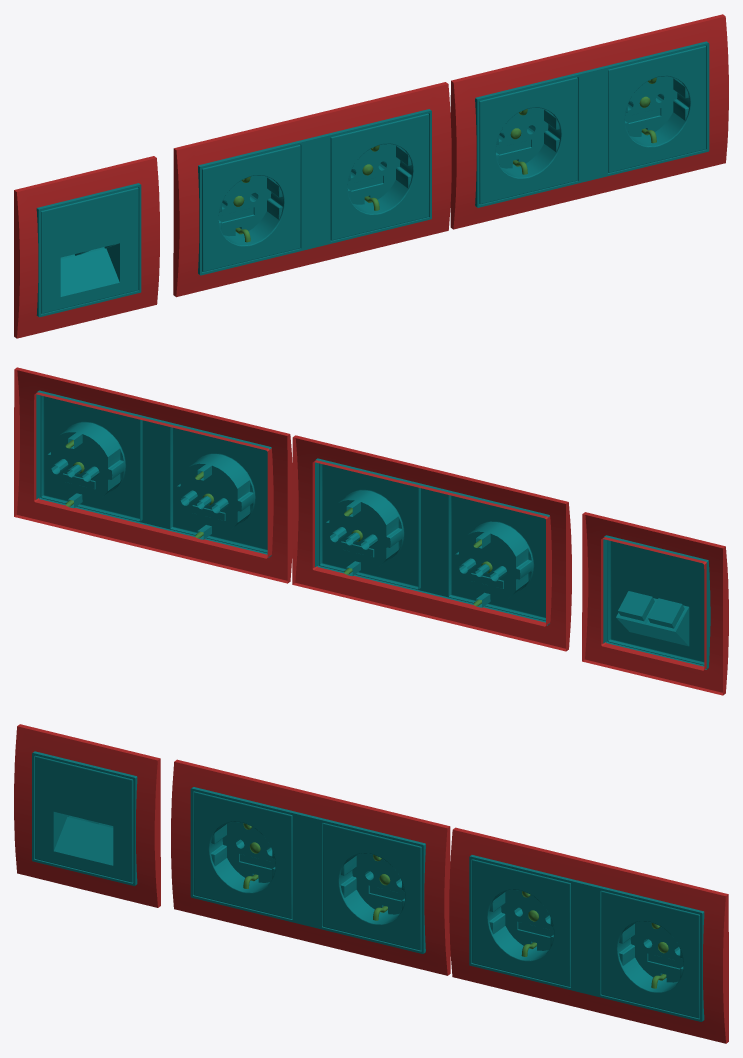
The model's file is SM_Socket_037.fbx.
3 views of the same model, one above another, from view 1: azimuth 30°, elevation 25°; view 2: azimuth 150°, elevation 25°; view 3: azimuth 330°, elevation 25° (orthographic).
Visible parts, largest first — view 1: SM_Socket_037; view 2: SM_Socket_037; view 3: SM_Socket_037.
Boxes of the visible parts, left/top/right/bottom form: SM_Socket_037: left=14, top=14, right=728, bottom=338; SM_Socket_037: left=14, top=367, right=728, bottom=695; SM_Socket_037: left=14, top=724, right=728, bottom=1043.
Size of the model in its own units: 42.11 by 8.6 by 2.51.
